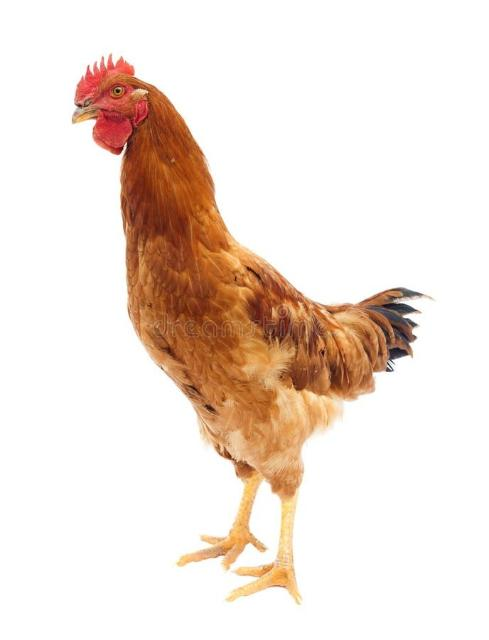Chicken: (68, 54, 433, 605)
